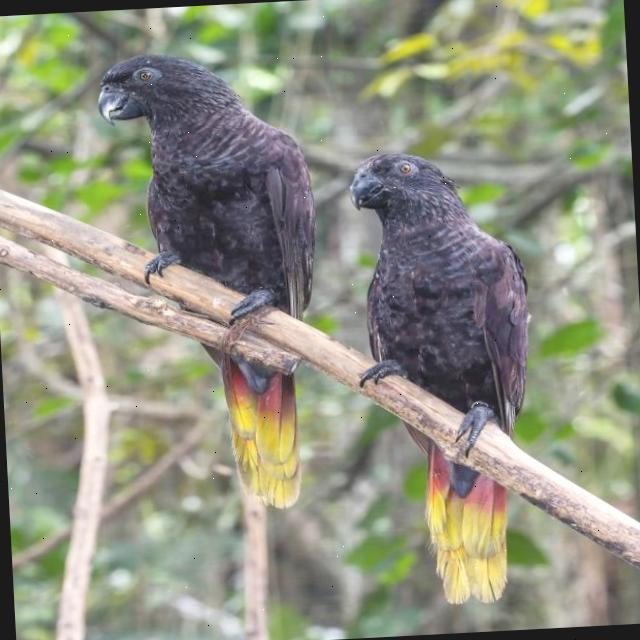Nuri Hitam: (93, 33, 344, 528), (336, 122, 574, 622)
